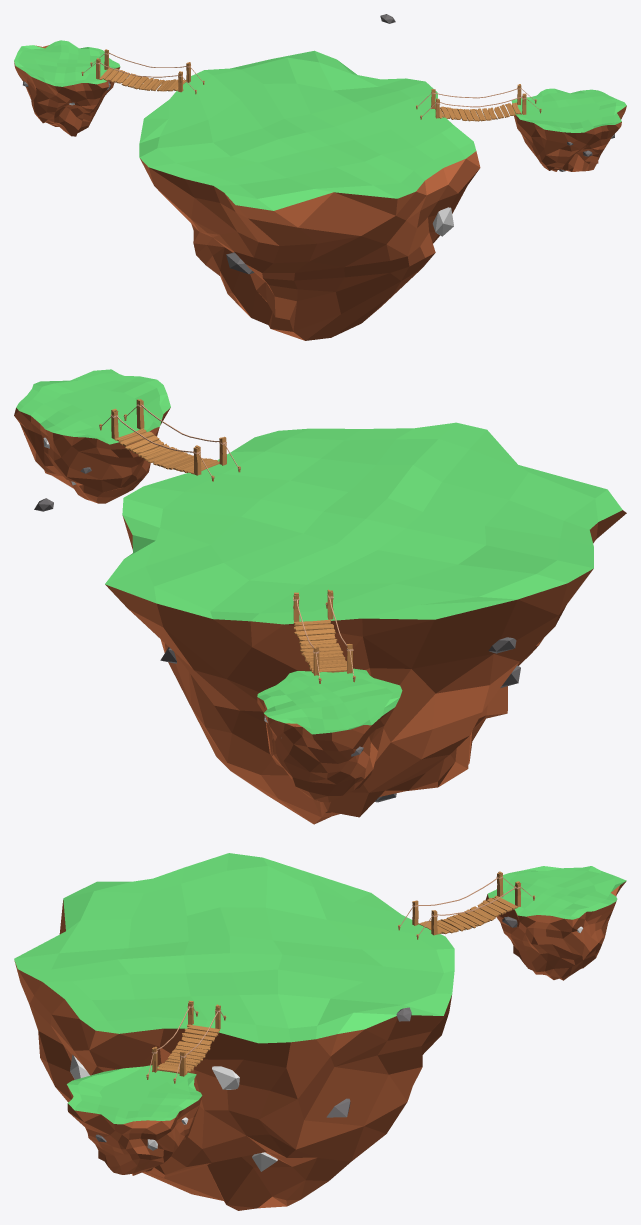
The model's file is Sky Island.fbx.
3 renders of one model, top to bottom at view 1: azimuth 30°, elevation 25°; view 2: azimuth 150°, elevation 25°; view 3: azimuth 270°, elevation 25°, orthographic. The views are drawn at different scales.
Visible parts, largest first — view 1: Cube.002, Cube.001, Cube; view 2: Cube.002, Cube.001, Cube; view 3: Cube.002, Cube.001, Cube.
Part boxes in pixels (x1,y1,x2,y2): Cube.002: (139, 50, 480, 340); Cube.001: (511, 88, 626, 171); Cube: (14, 40, 120, 136); Cube.002: (105, 422, 626, 824); Cube.001: (14, 369, 170, 503); Cube: (257, 668, 402, 802); Cube.002: (14, 853, 454, 1210); Cube.001: (67, 1065, 202, 1175); Cube: (485, 866, 626, 980).
Bounding box in the file's own units: 1406 × 701 × 1400.
